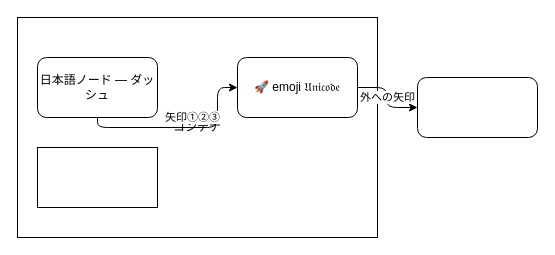
This 555x255 diagram has some shape labels left out. The centre of each missing label's shape, as x and y in pixels:
"太字 & 記号 ✓" goes at pixel 477 107.
"日本語" goes at pixel 97 177.
